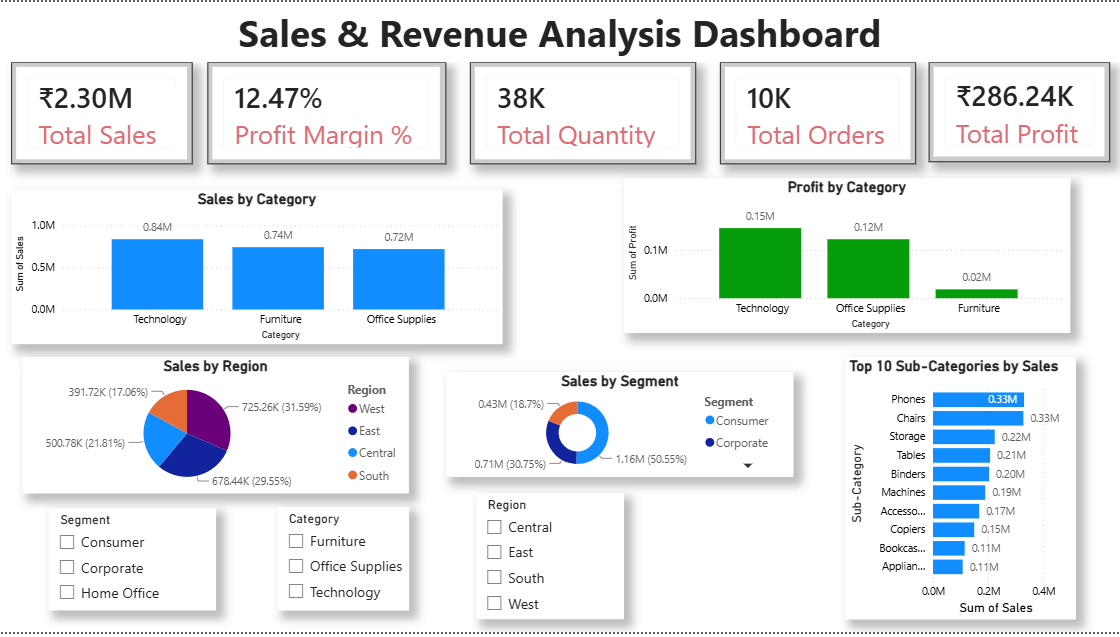

This screenshot's page, from the dashboard's own definition file:
{"tool":"powerbi","page":{"name":"Page 1","canvas":[1280,720],"ordinal":0},"visuals":[{"type":"cardVisual","fields":{"Data":["SampleSuperstore.Total Sales"]},"box":[12.9,68.6,207.1,117.1],"z":0},{"type":"cardVisual","fields":{"Data":["SampleSuperstore.Total Profit"]},"box":[1061.4,68.6,207.1,114.3],"z":1000},{"type":"cardVisual","fields":{"Data":["SampleSuperstore.Total Quantity"]},"box":[537.1,68.6,258.6,117.1],"z":2000},{"type":"cardVisual","fields":{"Data":["SampleSuperstore.Profit Margin %"]},"box":[237.1,68.6,272.9,117.1],"z":3000},{"type":"cardVisual","fields":{"Data":["SampleSuperstore.Total Orders"]},"box":[822.9,68.6,224.3,117.1],"z":4000},{"type":"clusteredColumnChart","title":"Sales by Category","fields":{"Category":["SampleSuperstore.Category"],"Y":["Sum(SampleSuperstore.Sales)"]},"box":[12.9,214.3,561.4,177.1],"z":5000},{"type":"clusteredColumnChart","title":"Profit by Category","fields":{"Category":["SampleSuperstore.Category"],"Y":["Sum(SampleSuperstore.Profit)"]},"box":[712.9,201.4,510,177.1],"z":6000},{"type":"pieChart","title":"Sales by Region","fields":{"Category":["SampleSuperstore.Region"],"Y":["Sum(SampleSuperstore.Sales)"]},"box":[25.7,405.7,441.4,155.7],"z":7000},{"type":"donutChart","title":"Sales by Segment","fields":{"Category":["SampleSuperstore.Segment"],"Y":["Sum(SampleSuperstore.Sales)"]},"box":[510,422.9,397.1,120],"z":8000},{"type":"clusteredBarChart","title":"Top 10 Sub-Categories by Sales","fields":{"Category":["SampleSuperstore.Sub-Category"],"Y":["Sum(SampleSuperstore.Sales)"]},"box":[965.7,405.7,264.3,300],"z":9000},{"type":"slicer","fields":{"Values":["SampleSuperstore.Region"]},"box":[544.3,561.4,168.6,144.3],"z":9001},{"type":"slicer","fields":{"Values":["SampleSuperstore.Category"]},"box":[317.1,577.1,150,118.6],"z":9002},{"type":"slicer","fields":{"Values":["SampleSuperstore.Segment"]},"box":[55.7,578.6,191.4,117.1],"z":9003},{"type":"textbox","box":[0,0,1280,68.6],"z":9004}]}

Visuals, with their boxes in screenshot pixels (x1, y1, x2, y2), scaled from the page's 1280x720 canvas onto the 1120x637 screenshot:
cardVisual - SampleSuperstore.Total Sales: crop(11, 61, 192, 164)
cardVisual - SampleSuperstore.Total Profit: crop(929, 61, 1110, 162)
cardVisual - SampleSuperstore.Total Quantity: crop(470, 61, 696, 164)
cardVisual - SampleSuperstore.Profit Margin %: crop(207, 61, 446, 164)
cardVisual - SampleSuperstore.Total Orders: crop(720, 61, 916, 164)
"Sales by Category" clusteredColumnChart: crop(11, 190, 503, 346)
"Profit by Category" clusteredColumnChart: crop(624, 178, 1070, 335)
"Sales by Region" pieChart: crop(22, 359, 409, 497)
"Sales by Segment" donutChart: crop(446, 374, 794, 480)
"Top 10 Sub-Categories by Sales" clusteredBarChart: crop(845, 359, 1076, 624)
slicer - SampleSuperstore.Region: crop(476, 497, 624, 624)
slicer - SampleSuperstore.Category: crop(277, 511, 409, 616)
slicer - SampleSuperstore.Segment: crop(49, 512, 216, 616)
textbox: crop(0, 0, 1119, 61)
